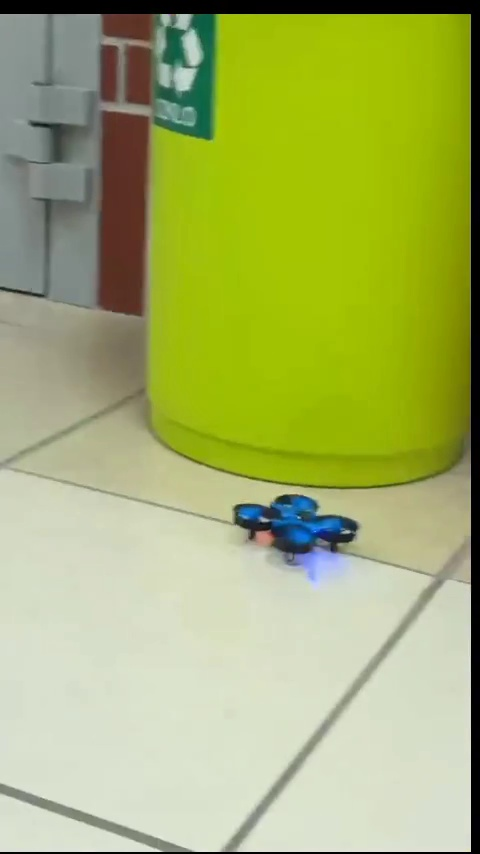drone: (229, 491, 356, 564)
